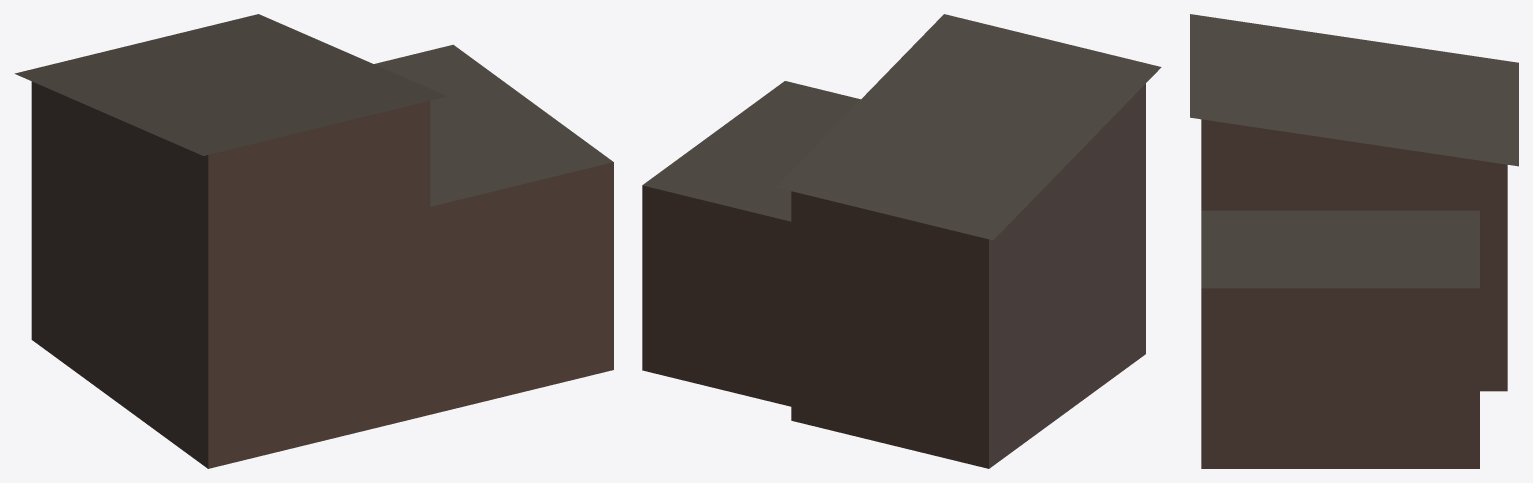
File: rw-split-modern.far-facades-v3.lod2.glb
The picture shows the model from 3 angles, left to right: view 1: azimuth 30°, elevation 25°; view 2: azimuth 150°, elevation 25°; view 3: azimuth 270°, elevation 25°; orthographic projection. The views are drawn at different scales.
Visible parts, largest first — view 1: rw-split-modern; view 2: rw-split-modern; view 3: rw-split-modern.
Boxes of the visible parts, left/top/right/bottom form: rw-split-modern: left=14, top=14, right=613, bottom=468; rw-split-modern: left=642, top=14, right=1161, bottom=468; rw-split-modern: left=1190, top=14, right=1518, bottom=468.
Size of the model in its own units: 15 by 11.02 by 11.8.
